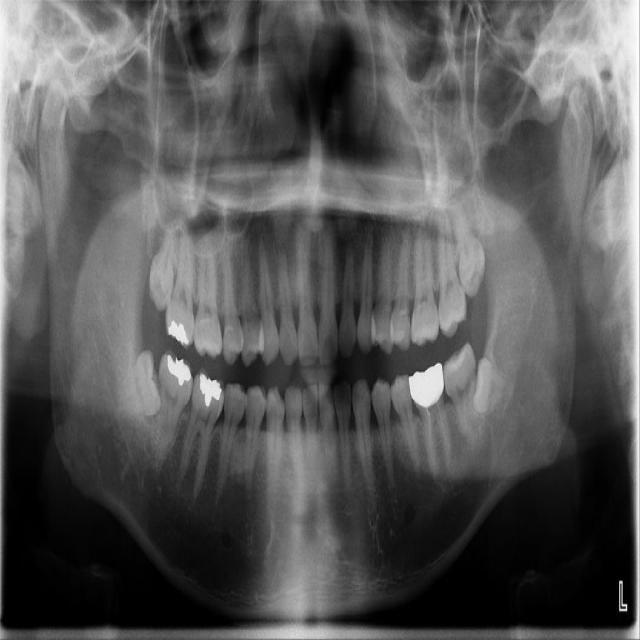3M ESPE Implant: (147, 215, 178, 314)
52: (147, 343, 210, 408), (189, 367, 228, 425), (405, 360, 447, 412), (165, 294, 195, 350)
73: (412, 390, 466, 490), (596, 561, 602, 570)
BioHorizons Implant: (438, 196, 466, 340)
BioLife Implant: (448, 197, 490, 301)
Biomet 3i Implant: (469, 354, 519, 420)
Blue Sky Bio Implant: (436, 341, 493, 450)
Caries: (165, 208, 197, 350)
Implant: (152, 349, 196, 458)
Keystone Dental Implant: (113, 350, 163, 421)
